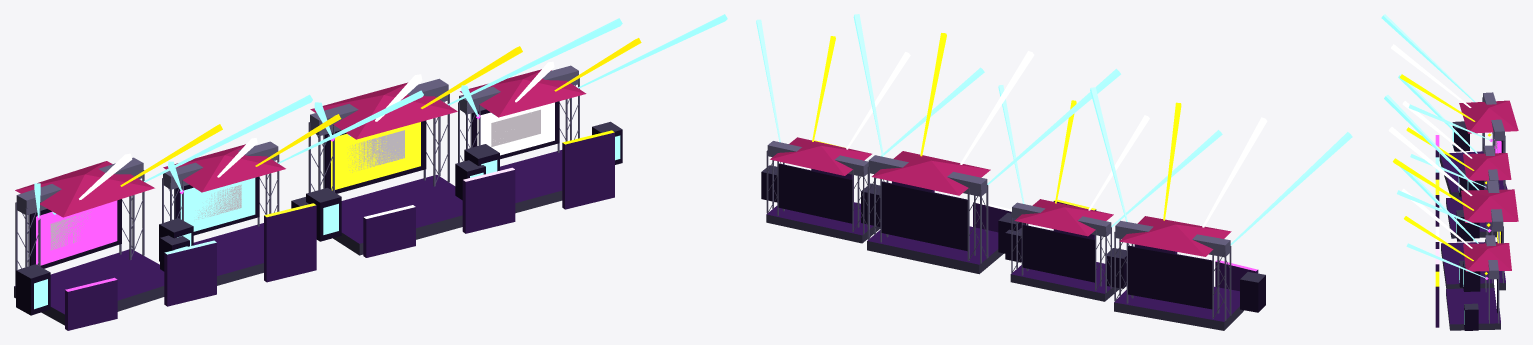
The model's file is W6_Far_Stages.fbx.
The picture shows the model from 3 angles, left to right: view 1: azimuth 30°, elevation 25°; view 2: azimuth 150°, elevation 25°; view 3: azimuth 270°, elevation 25°; orthographic projection. The views are drawn at different scales.
Visible parts, largest first — view 1: W6_Far_Stages; view 2: W6_Far_Stages; view 3: W6_Far_Stages.
Part boxes in pixels (<box>): W6_Far_Stages: <box>14,14,727,330</box>; W6_Far_Stages: <box>756,14,1352,330</box>; W6_Far_Stages: <box>1381,14,1518,330</box>.
Bounding box in the file's own units: 574 × 158 × 152.
